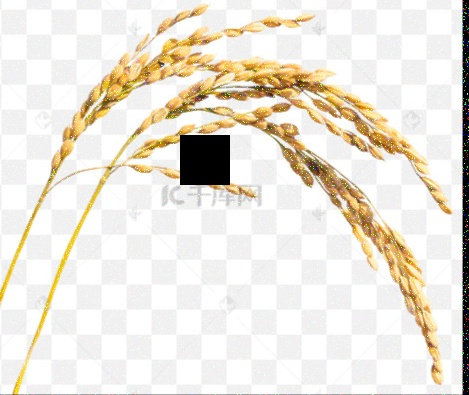rice: (97, 89, 441, 386), (36, 6, 452, 198)
